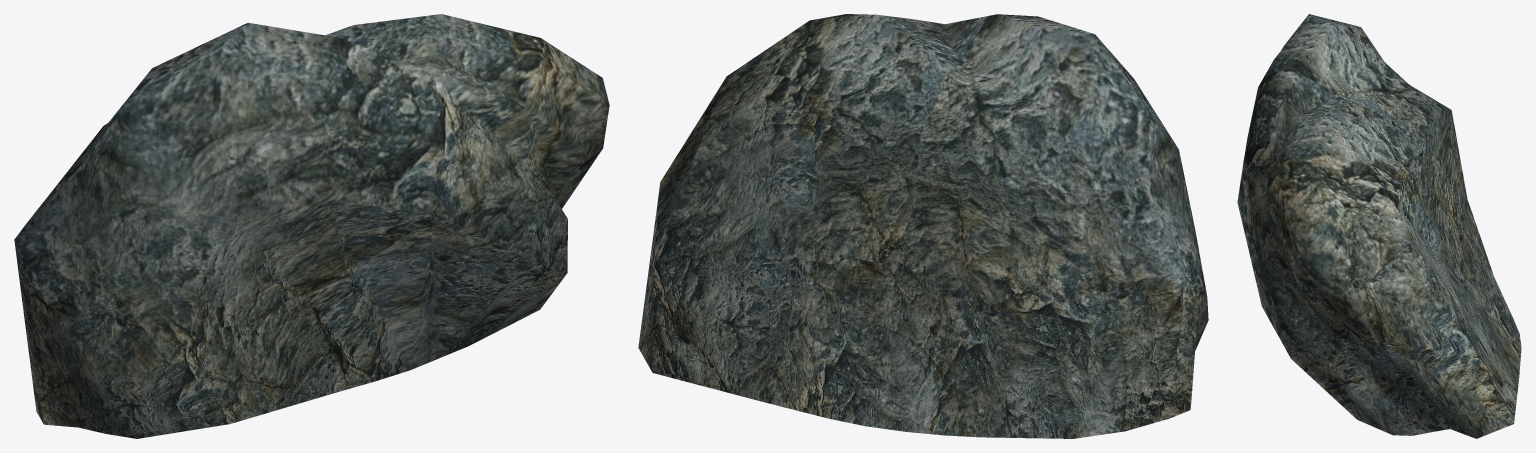
File: rockBlobFour.fbx
The picture shows the model from 3 angles, left to right: view 1: azimuth 30°, elevation 25°; view 2: azimuth 150°, elevation 25°; view 3: azimuth 270°, elevation 25°; orthographic projection. The views are drawn at different scales.
Parts seen in each view (by area): view 1: pPlane2; view 2: pPlane2; view 3: pPlane2.
Boxes of the visible parts, x1,y1,x2,y2 form: pPlane2: (14,14,609,438); pPlane2: (638,14,1208,438); pPlane2: (1237,14,1521,438).
Size of the model in its own units: 33.98 by 19.02 by 20.91.
